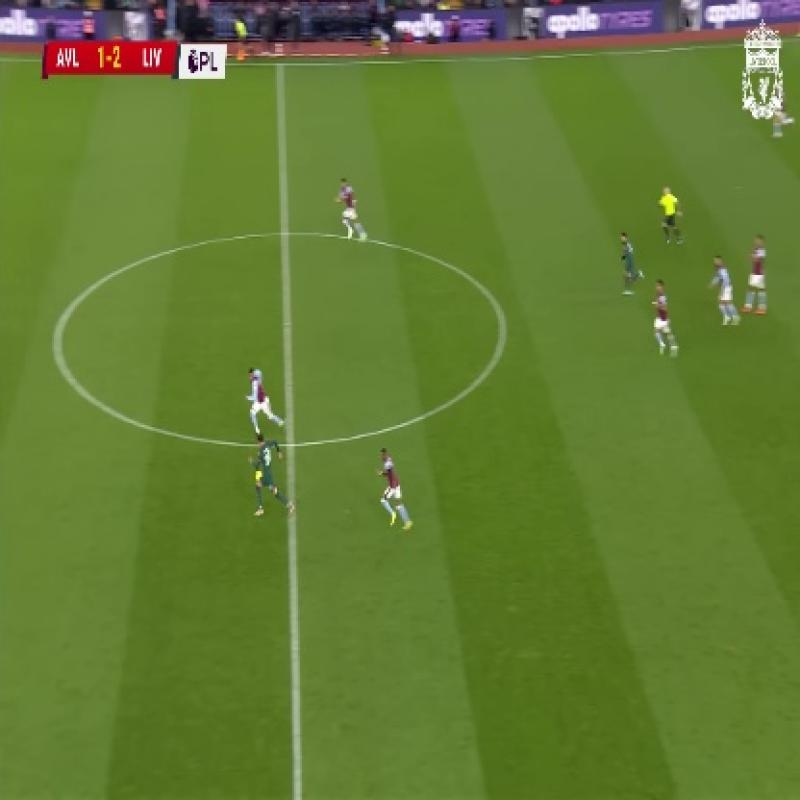13: (264, 44, 292, 85)
14: (265, 209, 302, 258)
15: (275, 418, 306, 466)
c: (482, 306, 528, 356), (38, 318, 77, 364)
